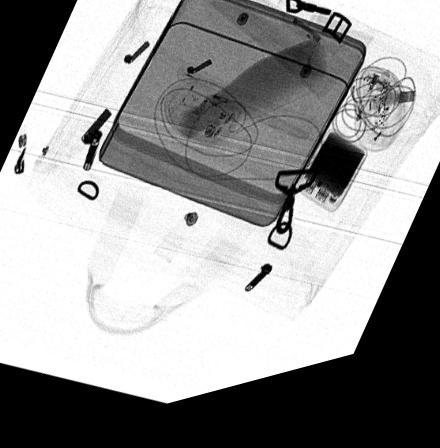Powerbank: (298, 145, 367, 231)
